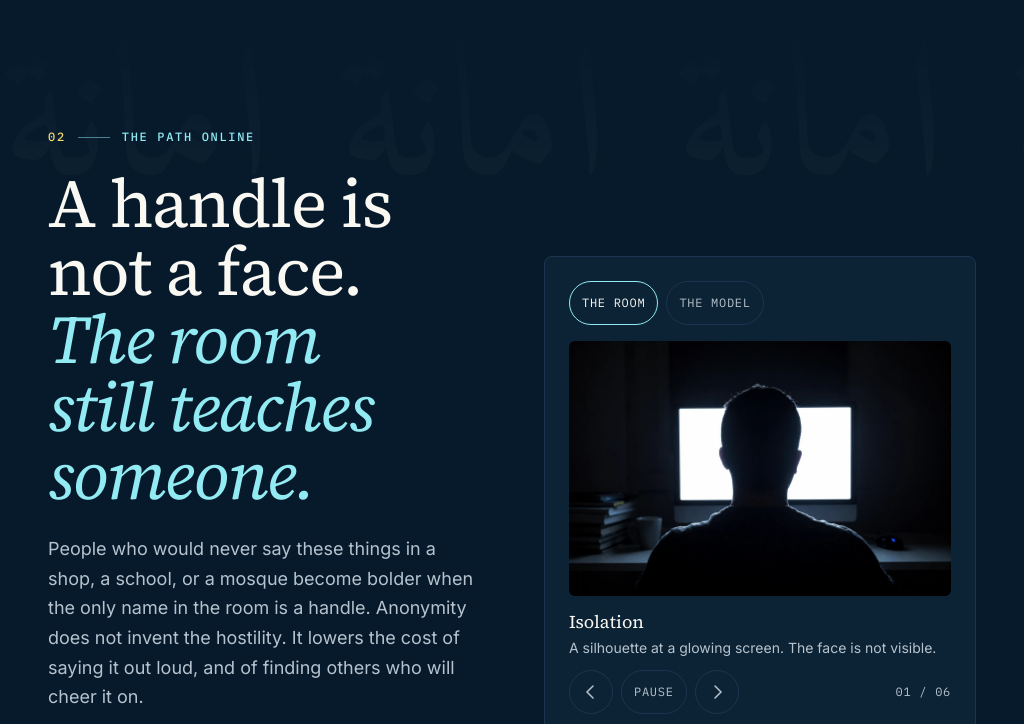
PathSection › opens the four-stage model from the path carousel
Click the tab "The model": (715, 303) [666,281,764,325]
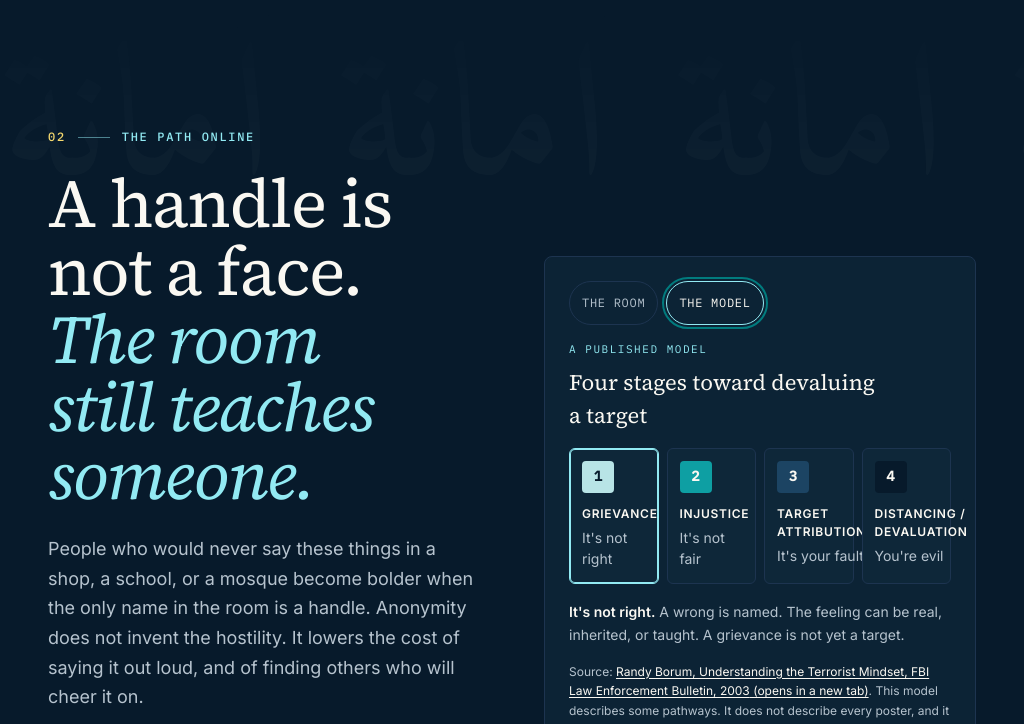
Check: the button "1 Grievance It's not right" is shown, box [569,448,658,584]
Check: the link "Randy Borum" is shown, box [569,664,929,698]
